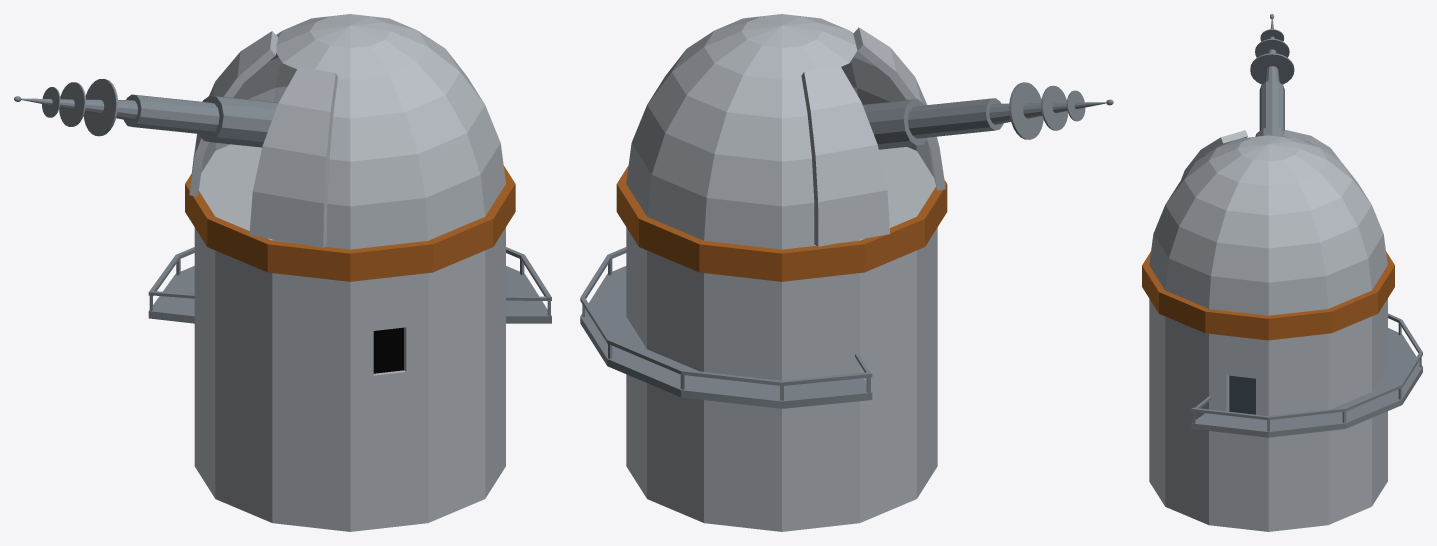
Rendered from Laservatory1.fbx.
The picture shows the model from 3 angles, left to right: view 1: azimuth 30°, elevation 25°; view 2: azimuth 150°, elevation 25°; view 3: azimuth 270°, elevation 25°; orthographic projection. The views are drawn at different scales.
Visible parts, largest first — view 1: polySurface20; view 2: polySurface20; view 3: polySurface20.
Boxes of the visible parts, bbox=[...] form: polySurface20: bbox=[14, 14, 551, 531]; polySurface20: bbox=[580, 14, 1113, 531]; polySurface20: bbox=[1142, 14, 1422, 531].
Bounding box in the file's own units: 1647 × 1389 × 1030.
